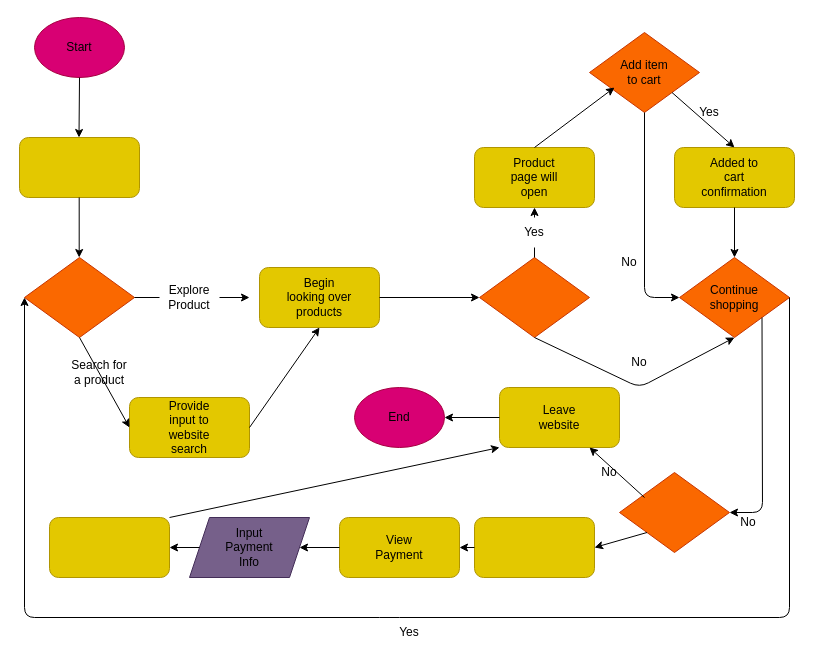
The diagram is 815 pixels wide and 665 high, and some of its shapes have lost their labels. The shapes that lost their labels are listed below. From the top down, each one's box as (x1, y1, x2, y2) in pixels, then its label:
(18, 136, 140, 198): User enters website
(24, 256, 134, 338): Search for or explore products
(478, 256, 590, 338): View specific product
(618, 472, 730, 552): Checkout
(48, 516, 170, 578): Order confirmation screen and receive email
(474, 516, 594, 578): View Cart
